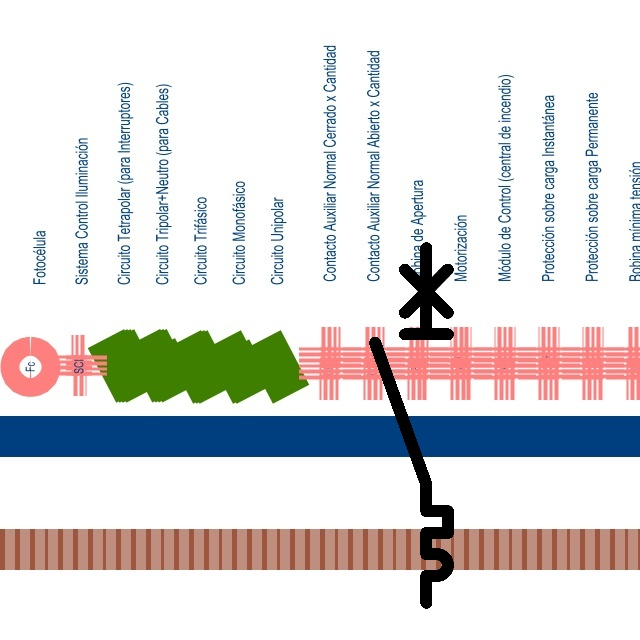interruptor_termomagnetico: (366, 239, 457, 612)
